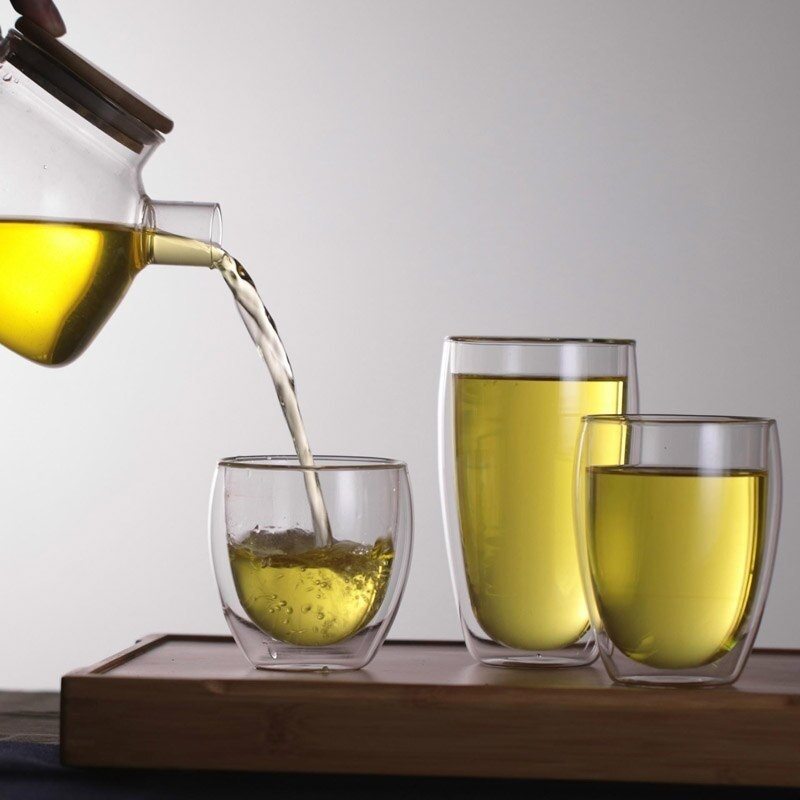whiskey: (564, 413, 771, 686), (204, 449, 421, 666)
